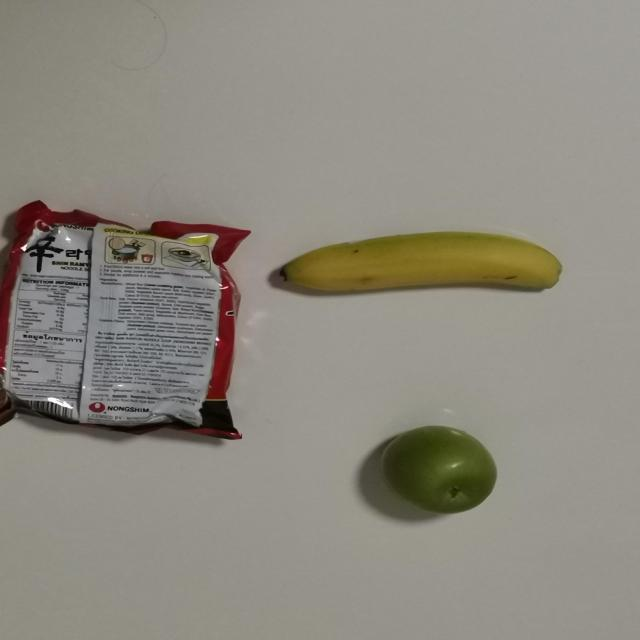Apple: (384, 427, 502, 518)
Banana: (248, 232, 576, 294)
